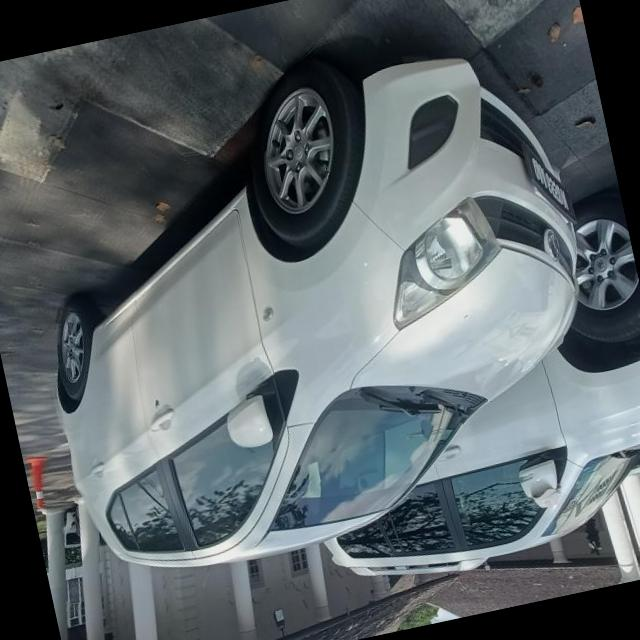PeroduaAxia: (0, 8, 632, 595)
